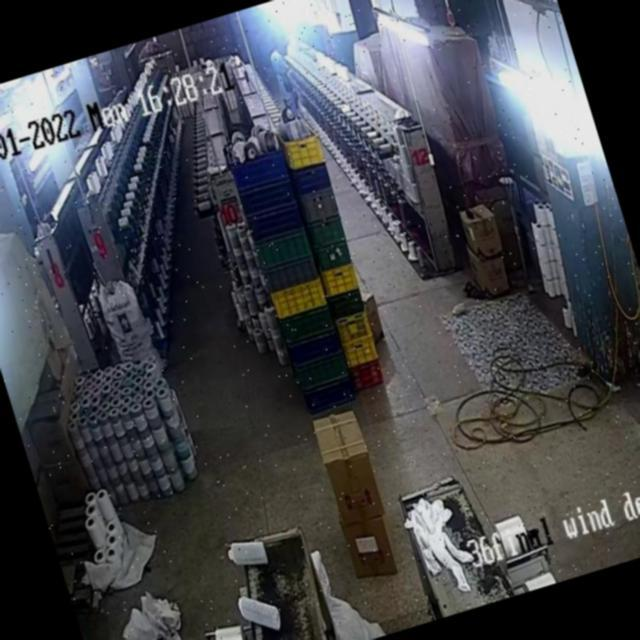person: (268, 42, 301, 114)
